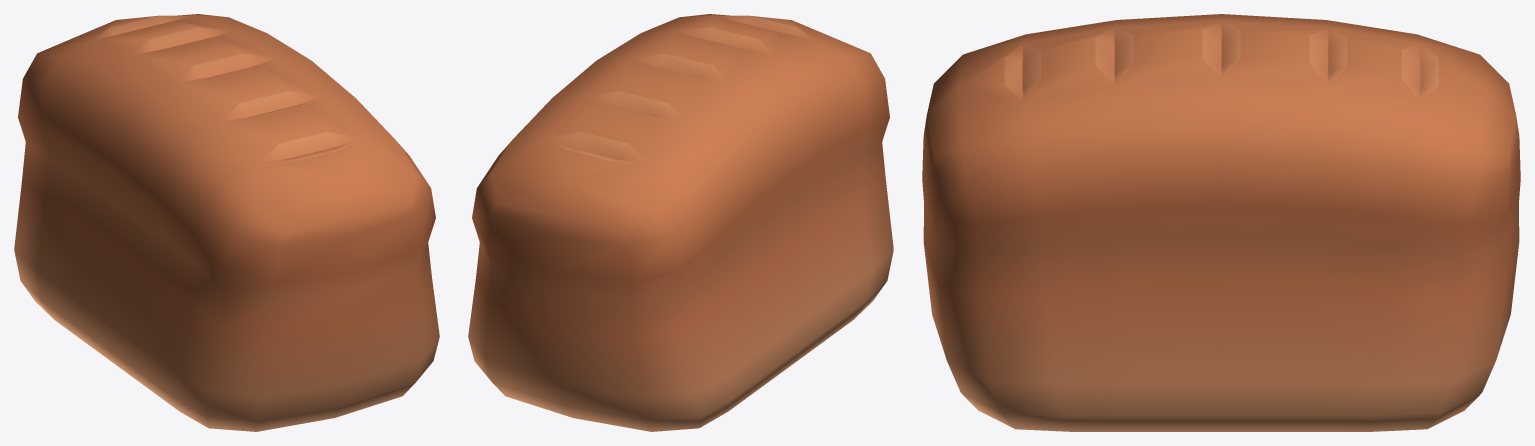
3 renders of one model, left to right at view 1: azimuth 30°, elevation 25°; view 2: azimuth 150°, elevation 25°; view 3: azimuth 270°, elevation 25°, orthographic. The views are drawn at different scales.
Visible parts, largest first — view 1: bread; view 2: bread; view 3: bread.
Part boxes in pixels (x1,y1,x2,y2): bread: [14, 14, 439, 431]; bread: [468, 14, 893, 431]; bread: [922, 14, 1520, 431].
Bounding box in the file's own units: 46.12 × 51.55 × 84.04.
Materials: 1 (1 with a texture image).
